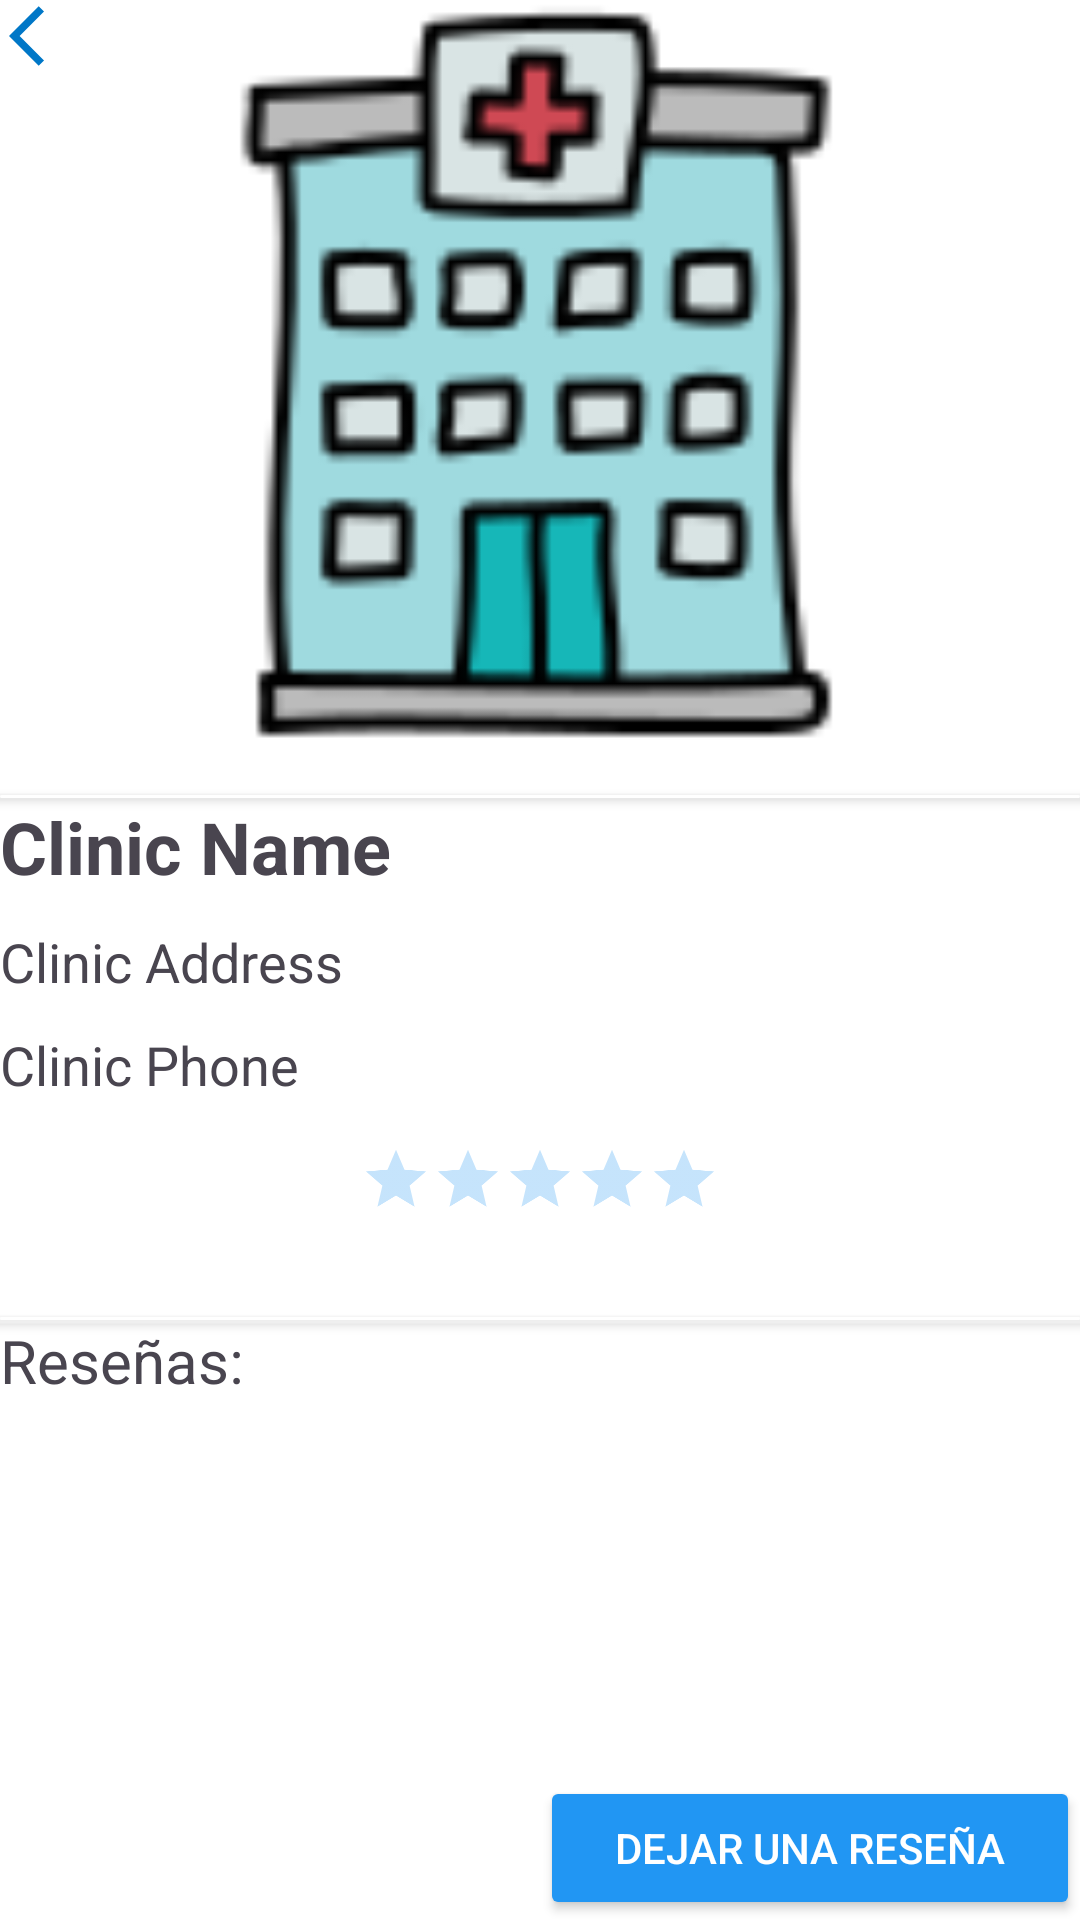

Locate icon controls on the screen. Image size 1080px x 1920px, boxes as [x1,y1,x2,y2].
arrow back: [9,6,44,66]
